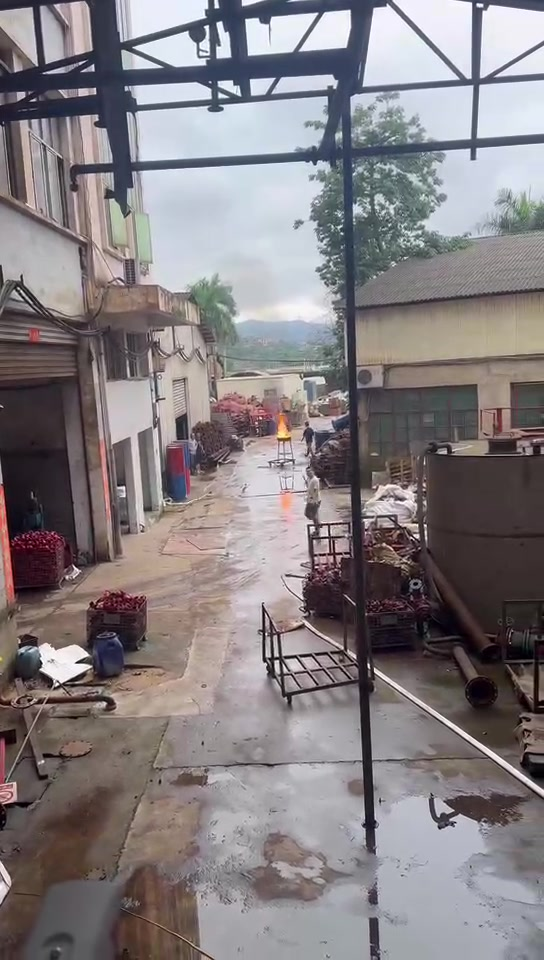fire: (275, 415, 290, 438)
